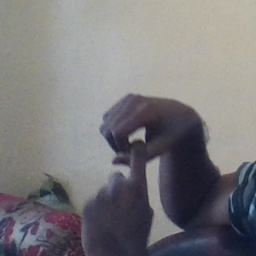Q: (79, 88, 197, 243)
